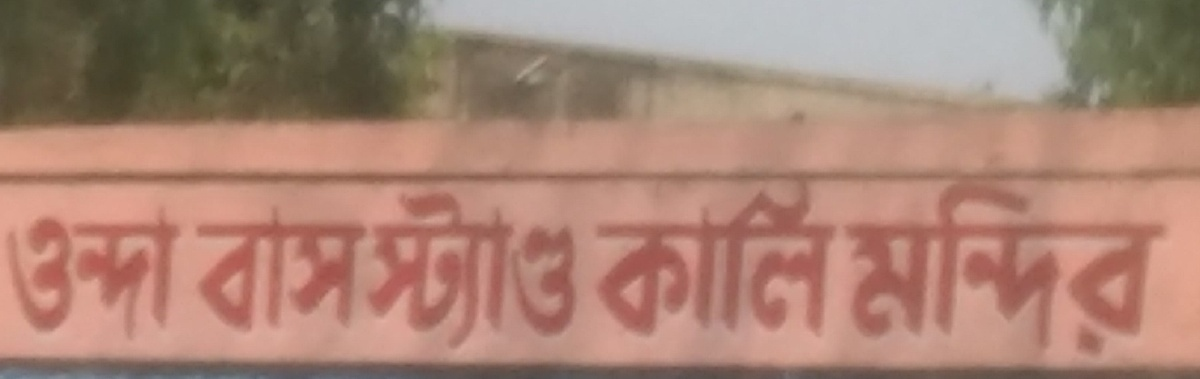text: (849, 172, 864, 360), (865, 172, 880, 360), (881, 172, 896, 360), (897, 172, 912, 360), (913, 172, 928, 360), (929, 172, 944, 360), (945, 172, 960, 360), (961, 172, 976, 360), (977, 172, 992, 360), (993, 172, 1008, 360), (1009, 172, 1024, 360), (1025, 172, 1040, 360), (1041, 172, 1056, 360), (1057, 172, 1072, 360), (1073, 172, 1088, 360), (1089, 172, 1104, 360), (1105, 172, 1120, 360), (1121, 172, 1136, 360), (1137, 172, 1152, 360), (1153, 172, 1168, 360), (593, 168, 608, 344), (609, 168, 624, 344), (625, 168, 640, 344), (641, 168, 656, 344), (657, 168, 672, 344), (673, 168, 688, 344), (689, 168, 704, 344), (705, 168, 720, 344), (721, 168, 736, 344), (737, 168, 752, 344), (753, 168, 768, 344), (769, 168, 784, 344), (785, 168, 800, 344), (801, 168, 816, 344), (817, 168, 832, 344), (385, 188, 400, 355), (401, 188, 416, 355), (417, 188, 432, 355), (433, 188, 448, 355), (449, 188, 464, 355), (465, 188, 480, 355), (481, 188, 496, 355), (497, 188, 512, 355), (513, 188, 528, 355), (529, 188, 544, 355), (545, 188, 560, 355), (561, 188, 576, 355), (177, 201, 193, 350), (17, 201, 32, 350), (33, 201, 48, 350), (49, 201, 64, 350), (65, 201, 80, 350), (81, 201, 96, 350), (97, 201, 112, 350), (113, 201, 128, 350), (129, 201, 144, 350), (145, 201, 160, 350), (161, 201, 176, 350), (833, 168, 845, 344), (209, 202, 224, 338), (225, 202, 240, 338), (241, 202, 256, 338), (257, 202, 272, 338), (273, 202, 288, 338), (289, 202, 304, 338), (305, 202, 320, 338), (321, 202, 336, 338), (337, 202, 352, 338), (353, 202, 368, 338), (373, 188, 384, 355), (5, 201, 16, 350), (196, 202, 208, 338), (1169, 172, 1173, 360), (577, 188, 580, 355), (369, 202, 370, 338)
